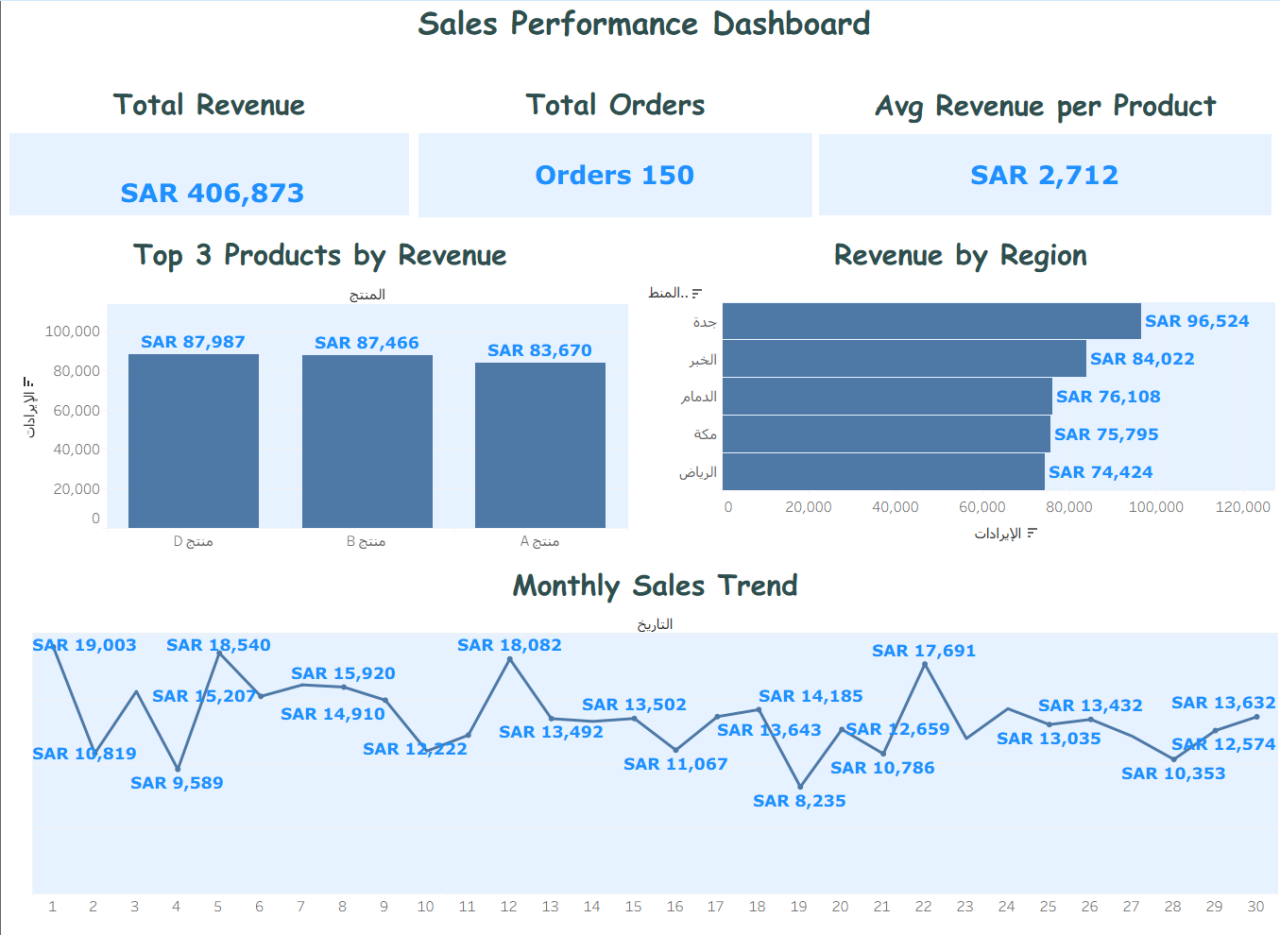

The dashboard page shown, as its layout file describes it:
{"tool":"tableau","page":{"name":"Dashboard 1","canvas":[1000,1000],"units":"permille","ordinal":0},"visuals":[{"type":"text","box":[5.9,7.8,988.3,87.8]},{"type":"worksheet","title":"Total Revenue","mark":"Automatic","box":[8.1,111.3,309.7,140.6]},{"type":"worksheet","title":"Total Orders","mark":"Automatic","box":[325,111.3,305.3,142.6]},{"type":"worksheet","title":"Average Revenue","mark":"Automatic","box":[635.4,112.3,350.7,139.7]},{"type":"worksheet","title":"Top 3 Products","mark":"Automatic","rows":["الإيرادات"],"cols":["المنتج"],"box":[10.2,266.6,477.3,334]},{"type":"worksheet","title":"Revenue by Region","mark":"Bar","rows":["المنطقة"],"cols":["الإيرادات"],"box":[501.5,266.6,487.6,332]},{"type":"worksheet","title":"Sales Trend","mark":"Line","rows":["الإيرادات"],"cols":["التاريخ"],"box":[25.6,608.4,965.6,370.1]}]}

Visuals, with their boxes on the dashboard's canvas, which has no fixed pixel size, in thousandths of its width and height (x1, y1, x2, y2). These are canvas units, not pixel positions in the 1280x935 screenshot, which may show the page scaled, cropped or inside an application window:
text: x1=6, y1=8, x2=994, y2=96
"Total Revenue" worksheet: x1=8, y1=111, x2=318, y2=252
"Total Orders" worksheet: x1=325, y1=111, x2=630, y2=254
"Average Revenue" worksheet: x1=635, y1=112, x2=986, y2=252
"Top 3 Products" worksheet: x1=10, y1=267, x2=488, y2=601
"Revenue by Region" worksheet (Bar marks): x1=502, y1=267, x2=989, y2=599
"Sales Trend" worksheet (Line marks): x1=26, y1=608, x2=991, y2=978
